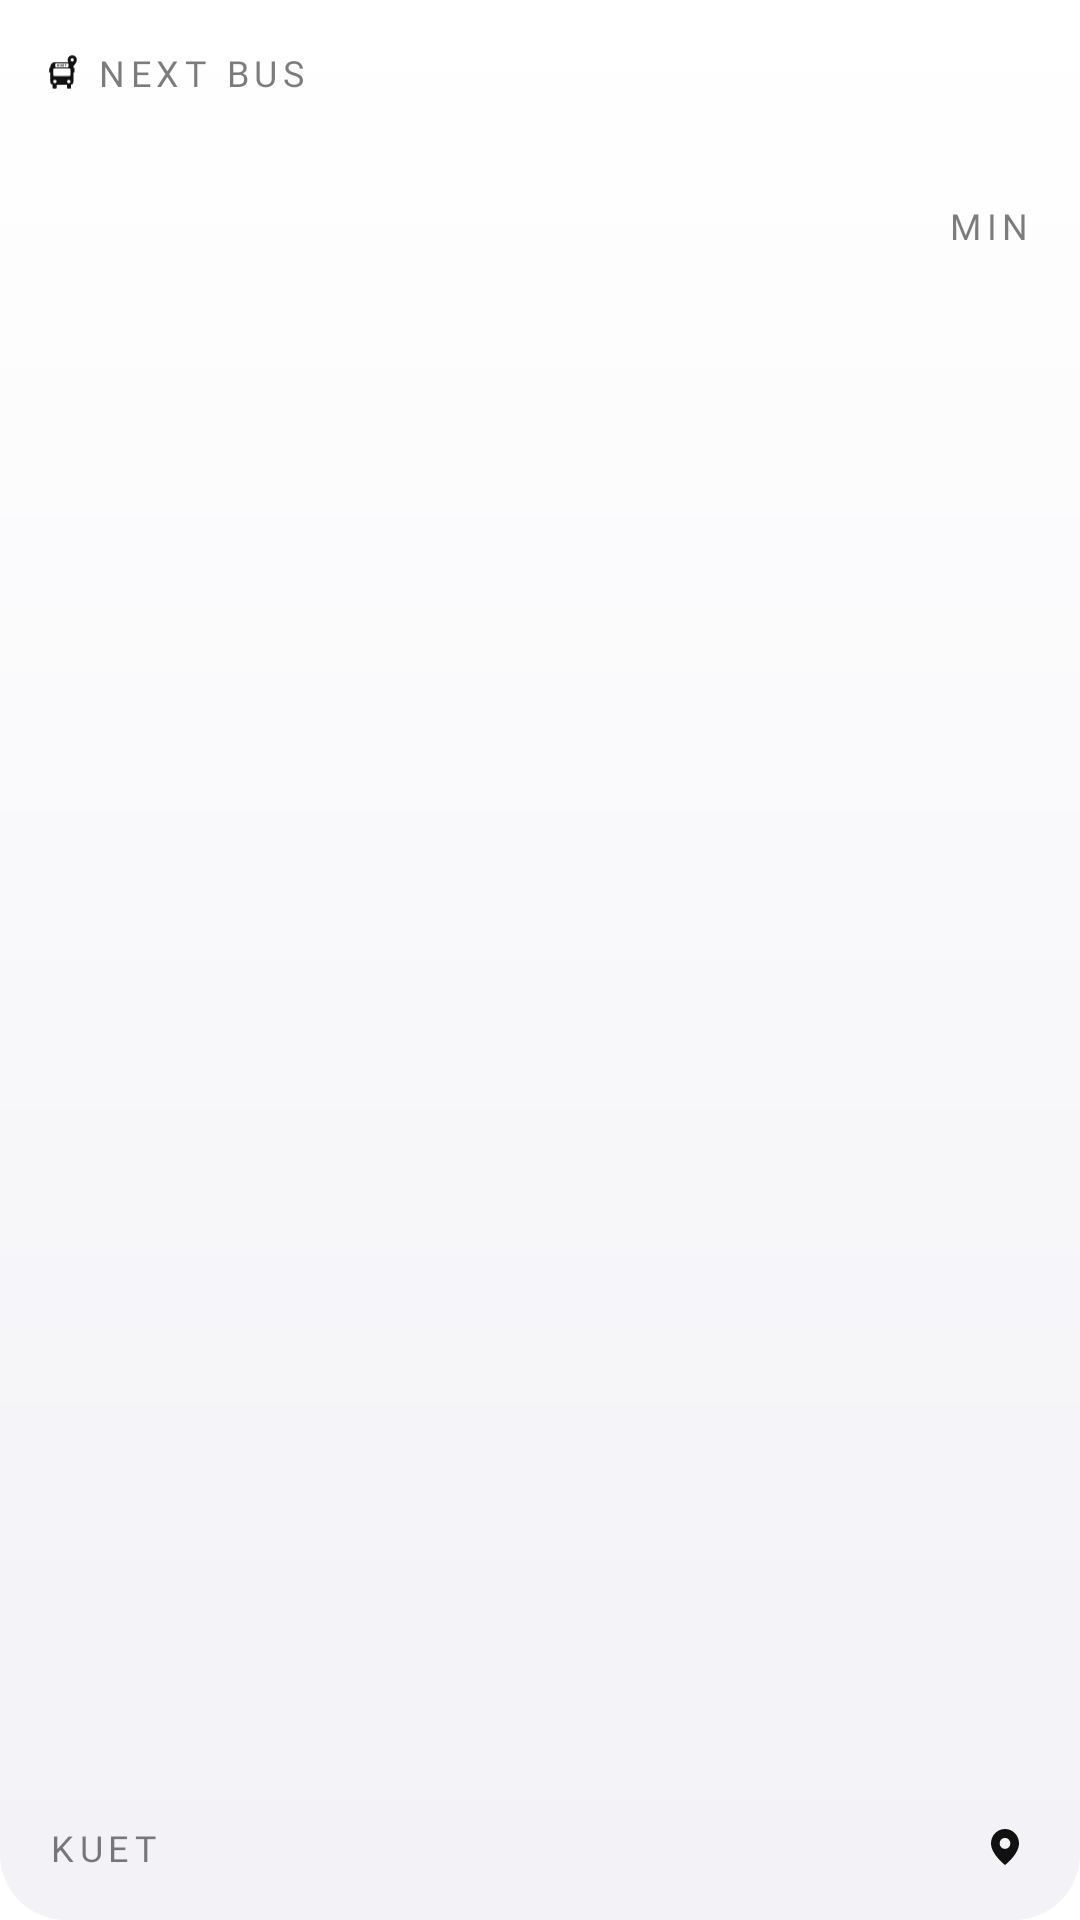

Named icons in this screenshot (1080w x 1920h) and their centers, point (x, y):
widget pin: point (1005, 1847)
